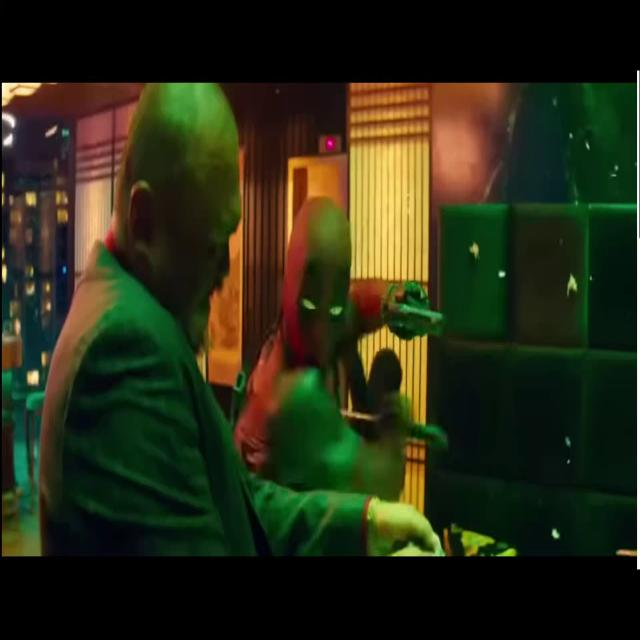weapons: (379, 270, 455, 358)
